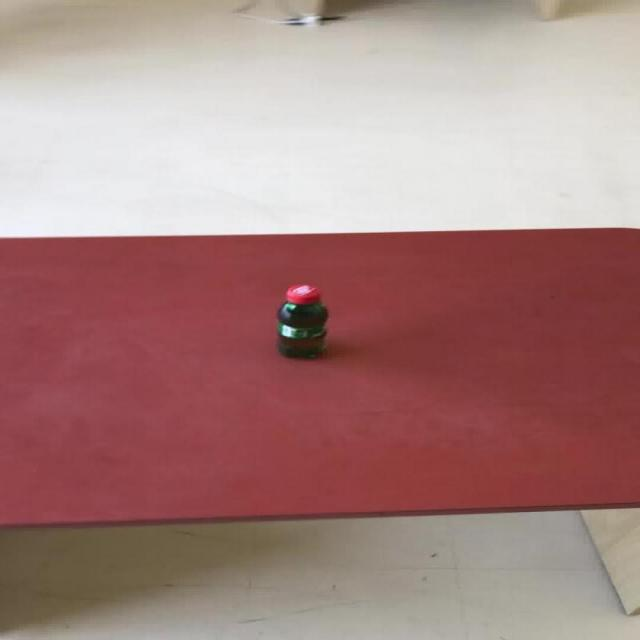Guarana: (274, 282, 329, 360)
